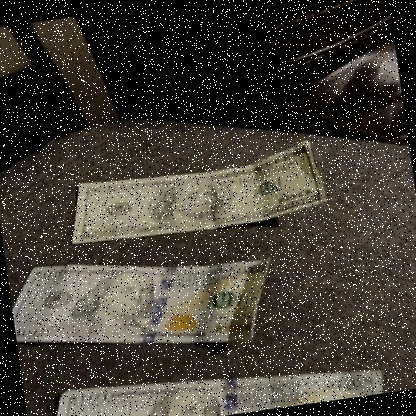one_hundred-front: (58, 134, 334, 250), (1, 255, 284, 349)
